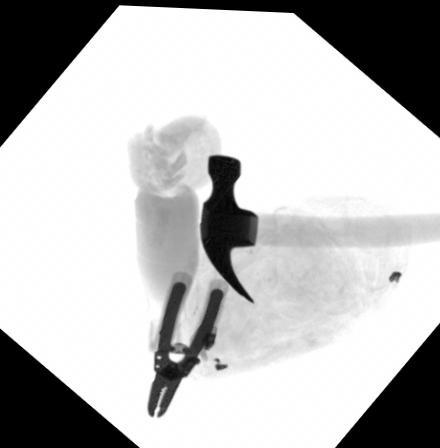Hammer: (197, 152, 440, 302)
Pliers: (146, 270, 227, 416)
